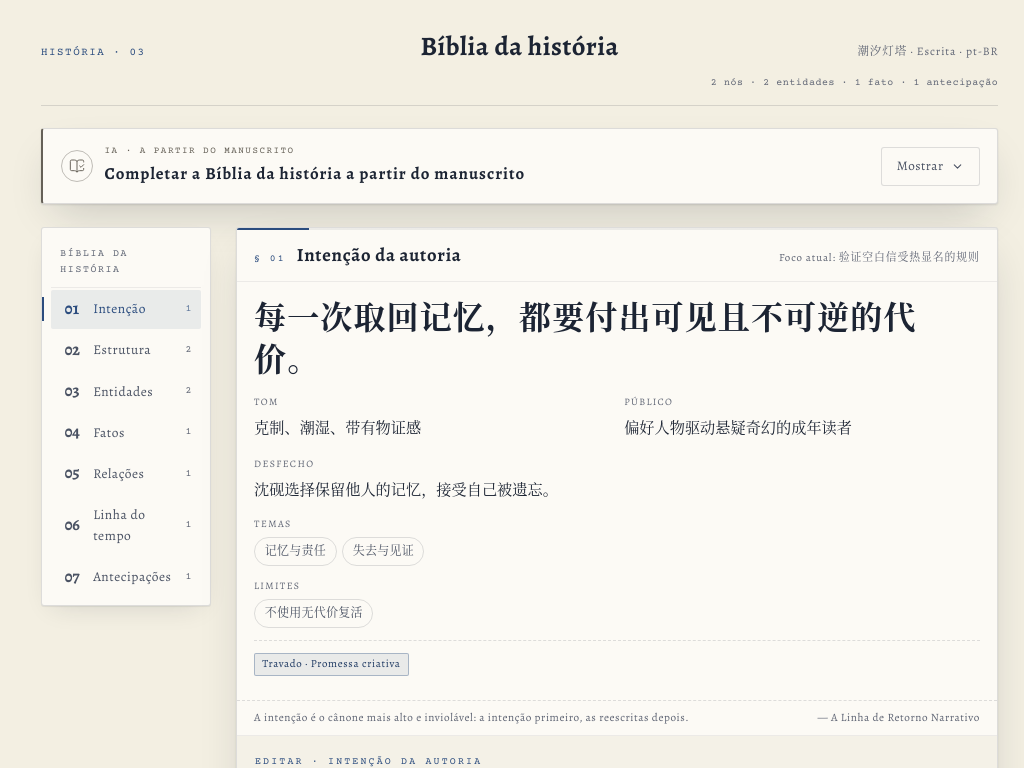
Test case: Bíblia da história › Editar opens only one Canon Spread at a time, on the same sheet
Check: the heading "Intenção da autoria" is shown, box [297,244,462,266]
Click the button with aria-label "Ver Estrutura" at (126, 350), box [51,331,201,370]
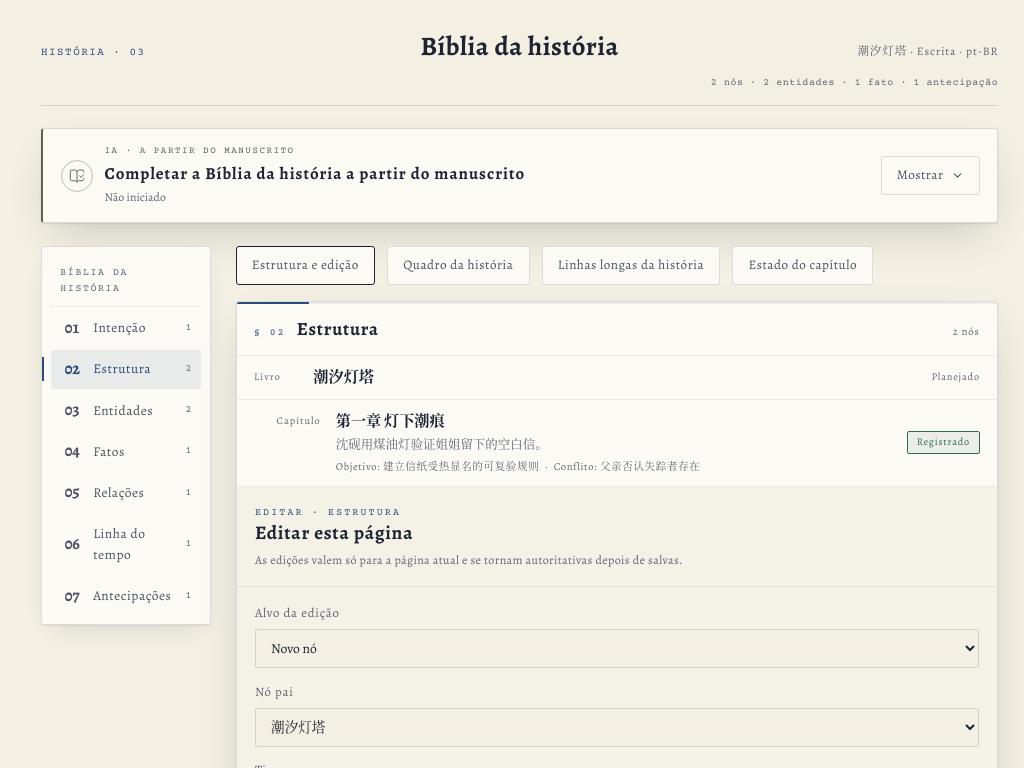
Check: the heading "Estrutura" is shown, box [297,318,379,340]
Check: the text "第一章 灯下潮痕" is shown, box [336,411,445,431]
Check: the text "每一次取回记忆，都要付出可见且不可逆的代价。" is gone
Select "第一章 灯下潮痕" in the dropdown labelled "Alvo da edição" at (617, 649), box [255,629,979,668]
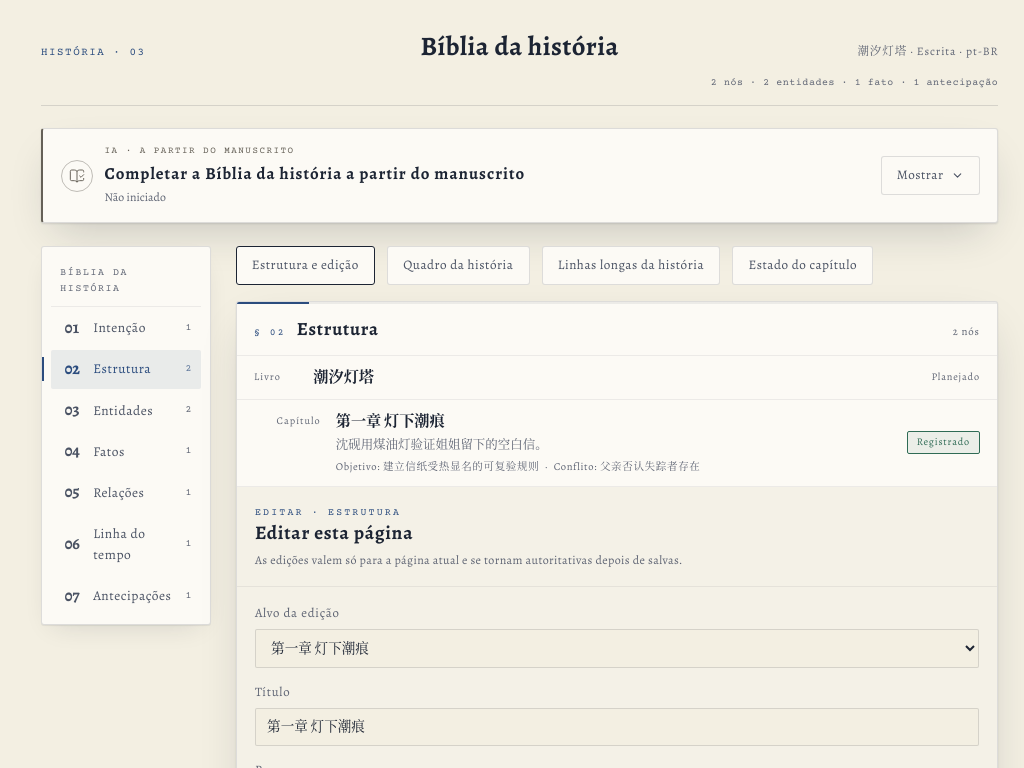
Click the button with aria-label "Ver Entidades" at (126, 410), box [51,391,201,430]
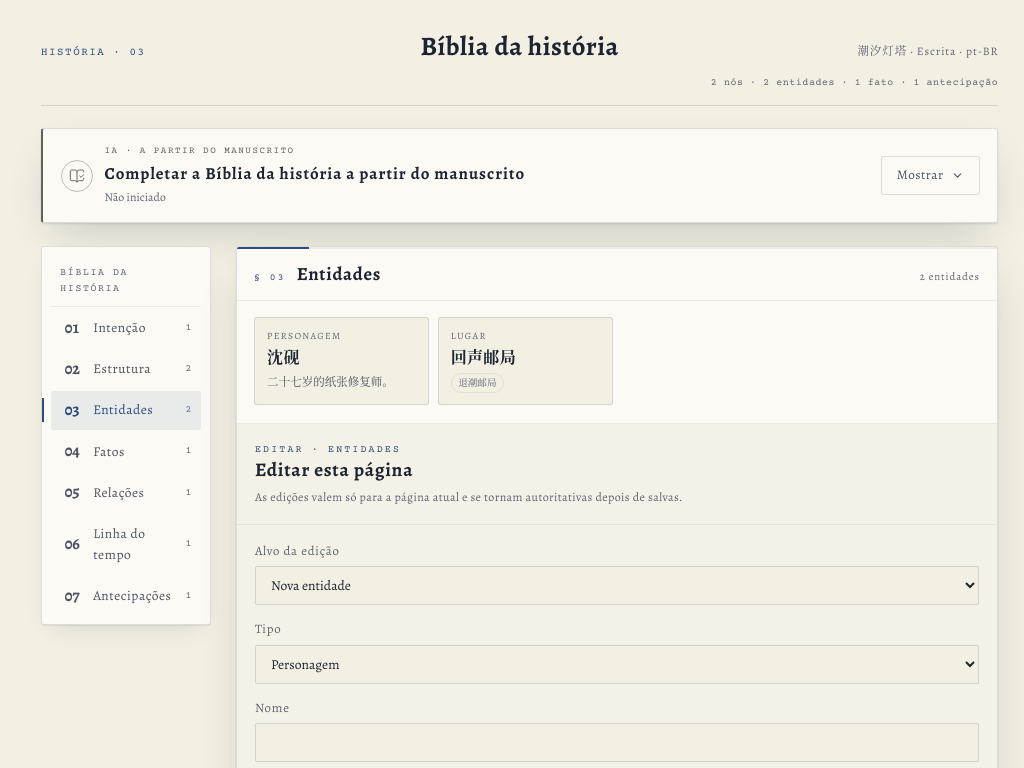
Check: the heading "Entidades" is shown, box [297,262,381,285]
Check: the text "二十七岁的纸张修复师。" is shown, box [267,373,416,392]
Click the button with aria-label "Ver Relações" at (126, 492), box [51,473,201,512]
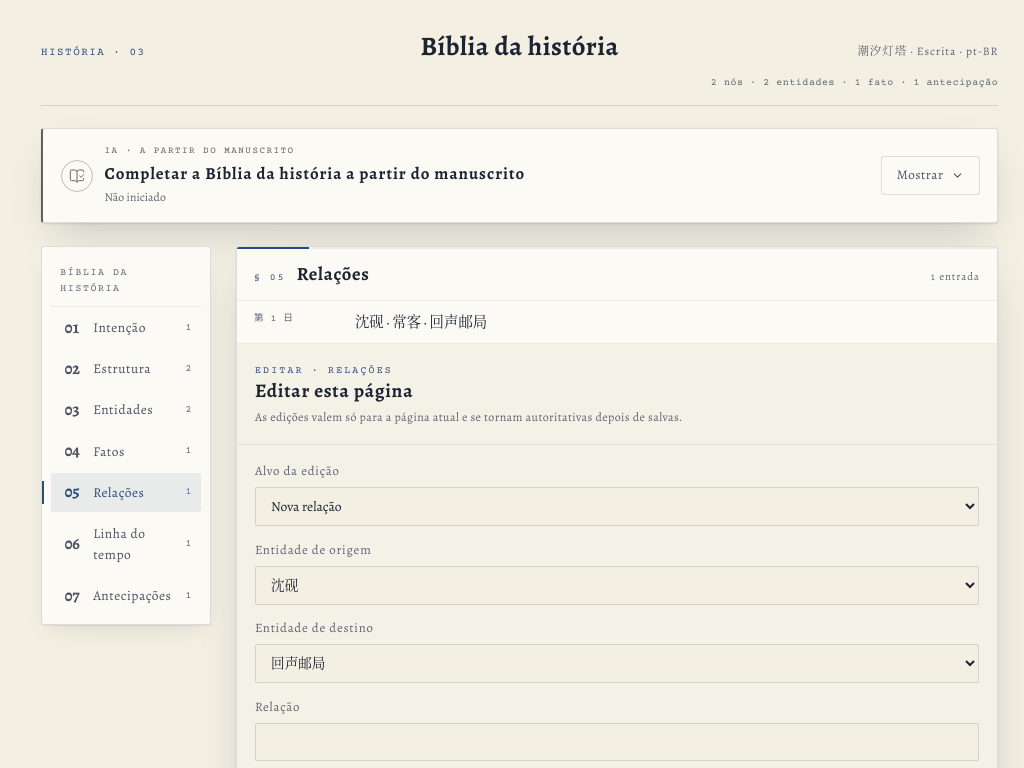
Check: the heading "Relações" is shown, box [297,262,370,285]
Check: the text "沈砚 · 常客 · 回声邮局" is shown, box [355,312,487,332]
Click the button with aria-label "Ver Antecipações" at (126, 596), box [51,576,201,616]
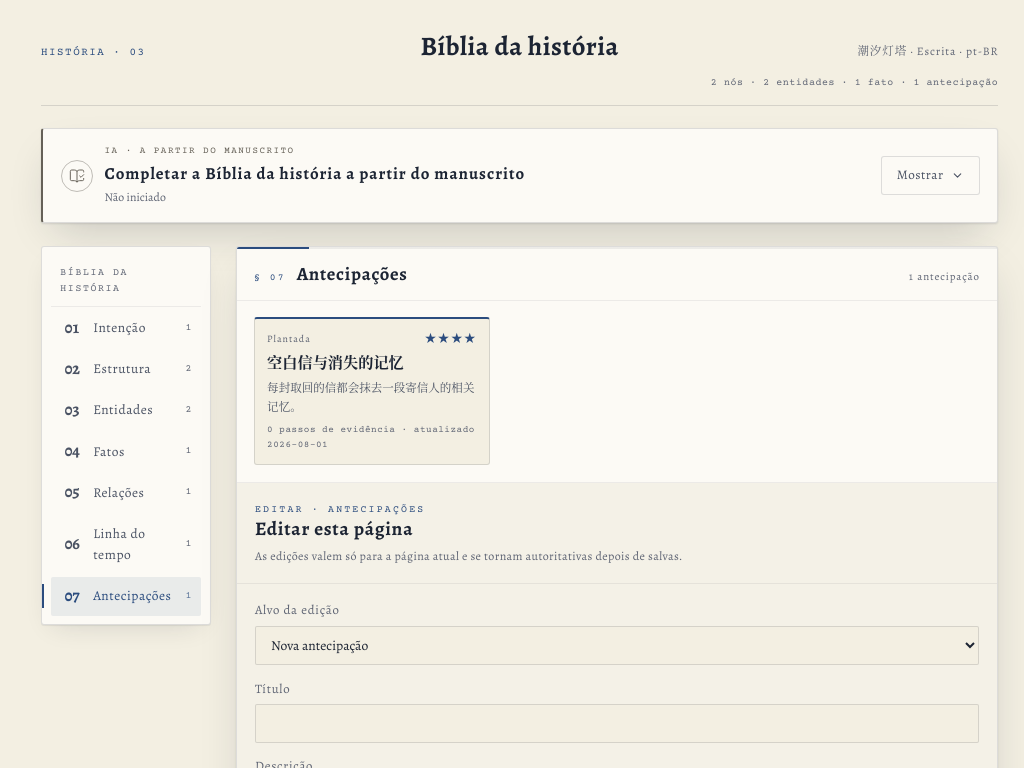
Check: the heading "Antecipações" is shown, box [297,262,408,285]
Check: the text "空白信与消失的记忆" is shown, box [267,353,404,373]
